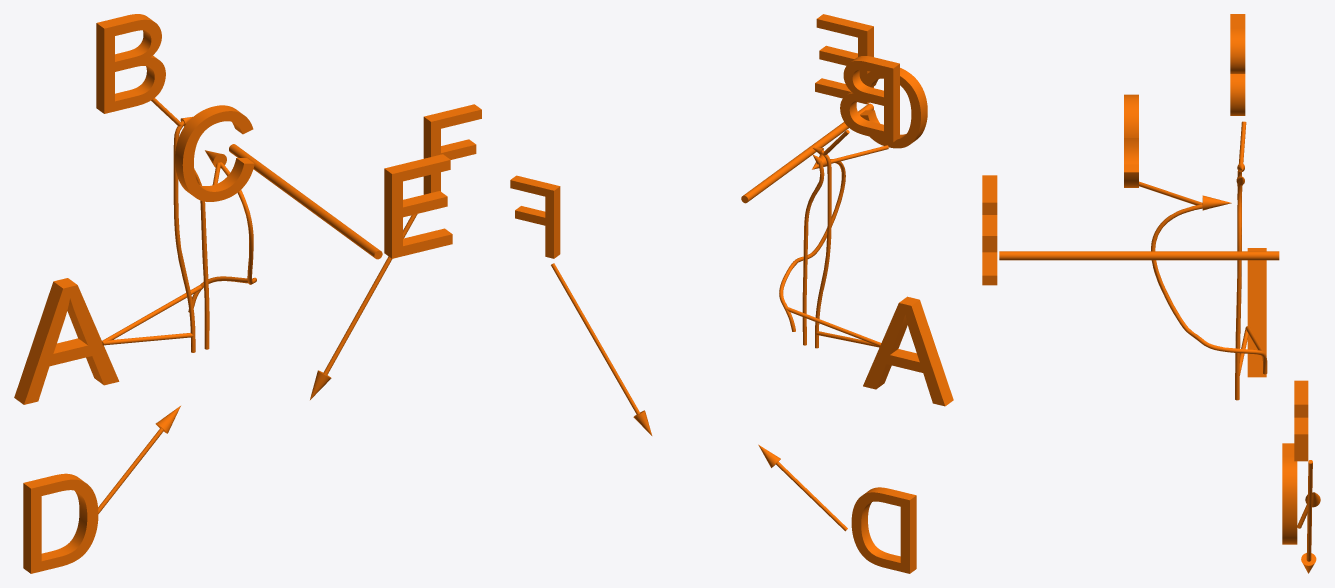
The model's file is s5arrow.glb.
3 renders of one model, left to right at view 1: azimuth 30°, elevation 25°; view 2: azimuth 150°, elevation 25°; view 3: azimuth 270°, elevation 25°, orthographic. The views are drawn at different scales.
Parts seen in each view (by area): view 1: Node; view 2: Node; view 3: Node.
Part boxes in pixels (left/top/right/bottom): Node: left=14, top=14, right=481, bottom=573; Node: left=510, top=14, right=953, bottom=573; Node: left=982, top=14, right=1320, bottom=573.
Size of the model in its own units: 7.08 by 7.77 by 4.47.
